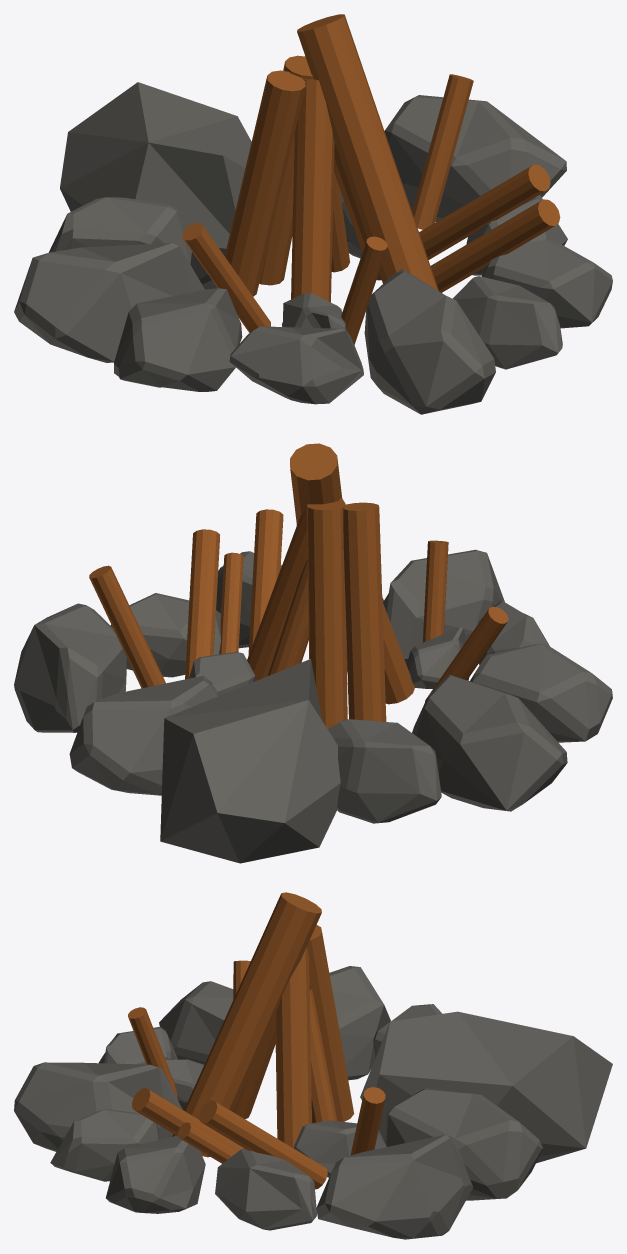
File: Campfire.fbx
3 views of the same model, one above another, from view 1: azimuth 30°, elevation 25°; view 2: azimuth 150°, elevation 25°; view 3: azimuth 270°, elevation 25° (orthographic). The views are drawn at different scales.
Parts seen in each view (by area): view 1: Icosphere.008, Icosphere.006, Cylinder.003, Icosphere.003, Icosphere.010, Icosphere.005, Cylinder.005, Cylinder.006, Icosphere.004, Icosphere.013, Icosphere.012, Icosphere.007 (+10 smaller); view 2: Icosphere.008, Icosphere.006, Icosphere.010, Icosphere.009, Icosphere.007, Cylinder.005, Icosphere.005, Cylinder.011, Icosphere.003, Icosphere.011, Cylinder.013, Cylinder.004 (+12 smaller); view 3: Icosphere.008, Icosphere.010, Cylinder.003, Icosphere.009, Icosphere.003, Icosphere.011, Icosphere.012, Cylinder.004, Icosphere.013, Icosphere.006, Icosphere.005, Cylinder.011 (+11 smaller).
Boxes of the visible parts, x1,y1,x2,y2 form: Icosphere.008: (60,82,251,289); Icosphere.006: (14,243,204,362); Cylinder.003: (297,14,438,290); Icosphere.003: (364,269,495,414); Icosphere.010: (384,95,566,221); Icosphere.005: (114,288,242,391); Cylinder.005: (225,70,305,296); Cylinder.006: (291,79,334,302); Icosphere.004: (229,326,363,404); Icosphere.013: (453,276,562,369); Icosphere.012: (482,239,612,328); Icosphere.007: (49,197,191,264); Icosphere.008: (160,659,340,863); Icosphere.006: (412,674,567,811); Icosphere.010: (14,603,126,732); Icosphere.009: (69,675,217,795); Icosphere.007: (327,719,441,823); Cylinder.005: (343,502,386,721); Icosphere.005: (470,643,612,742); Cylinder.011: (307,501,347,728); Icosphere.003: (383,549,504,664); Icosphere.011: (110,593,220,677); Cylinder.013: (185,529,219,679); Cylinder.004: (247,508,307,680); Icosphere.008: (360,1011,612,1163); Icosphere.010: (316,1134,473,1239); Cylinder.003: (172,892,321,1157); Icosphere.009: (385,1088,543,1200); Icosphere.003: (14,1062,182,1151); Icosphere.011: (215,1148,316,1230); Icosphere.012: (106,1136,205,1213); Cylinder.004: (275,947,311,1148); Icosphere.013: (50,1109,159,1181); Icosphere.006: (329,966,390,1080); Icosphere.005: (159,981,233,1064); Cylinder.011: (307,925,354,1121).
Bounding box in the file's own units: 295 × 171 × 320.
